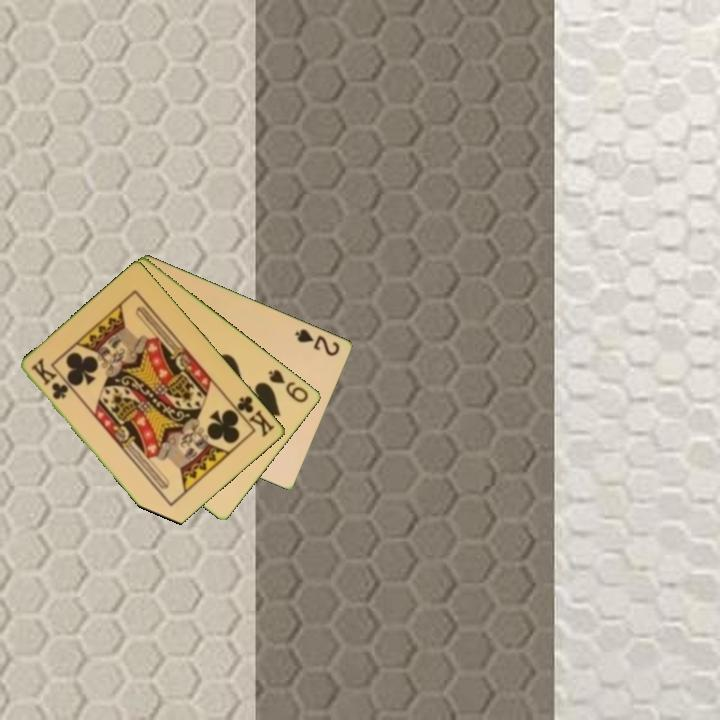2s: (292, 325, 343, 359)
9s: (265, 366, 312, 406)
Kc: (228, 392, 278, 440), (28, 355, 71, 403)
